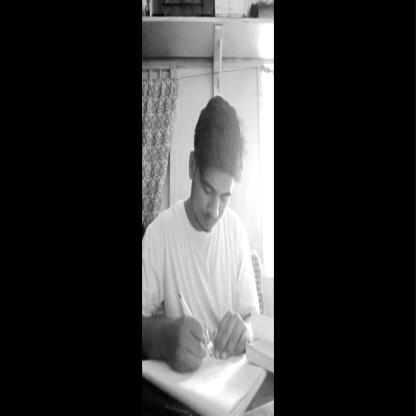Distracted: (188, 96, 239, 230)
